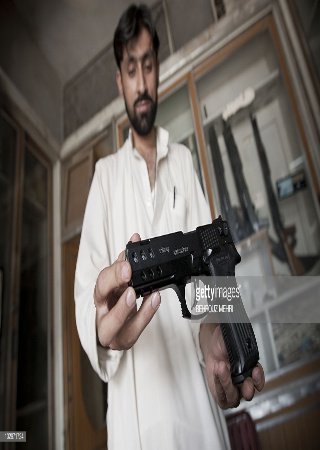handgun: (125, 214, 261, 386)
